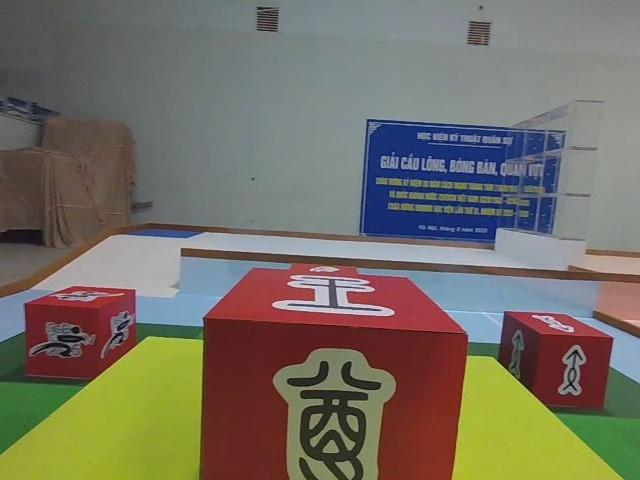R1: (22, 282, 138, 381)
R2 Fake: (200, 265, 469, 480)
R2 Real: (495, 309, 614, 411)
